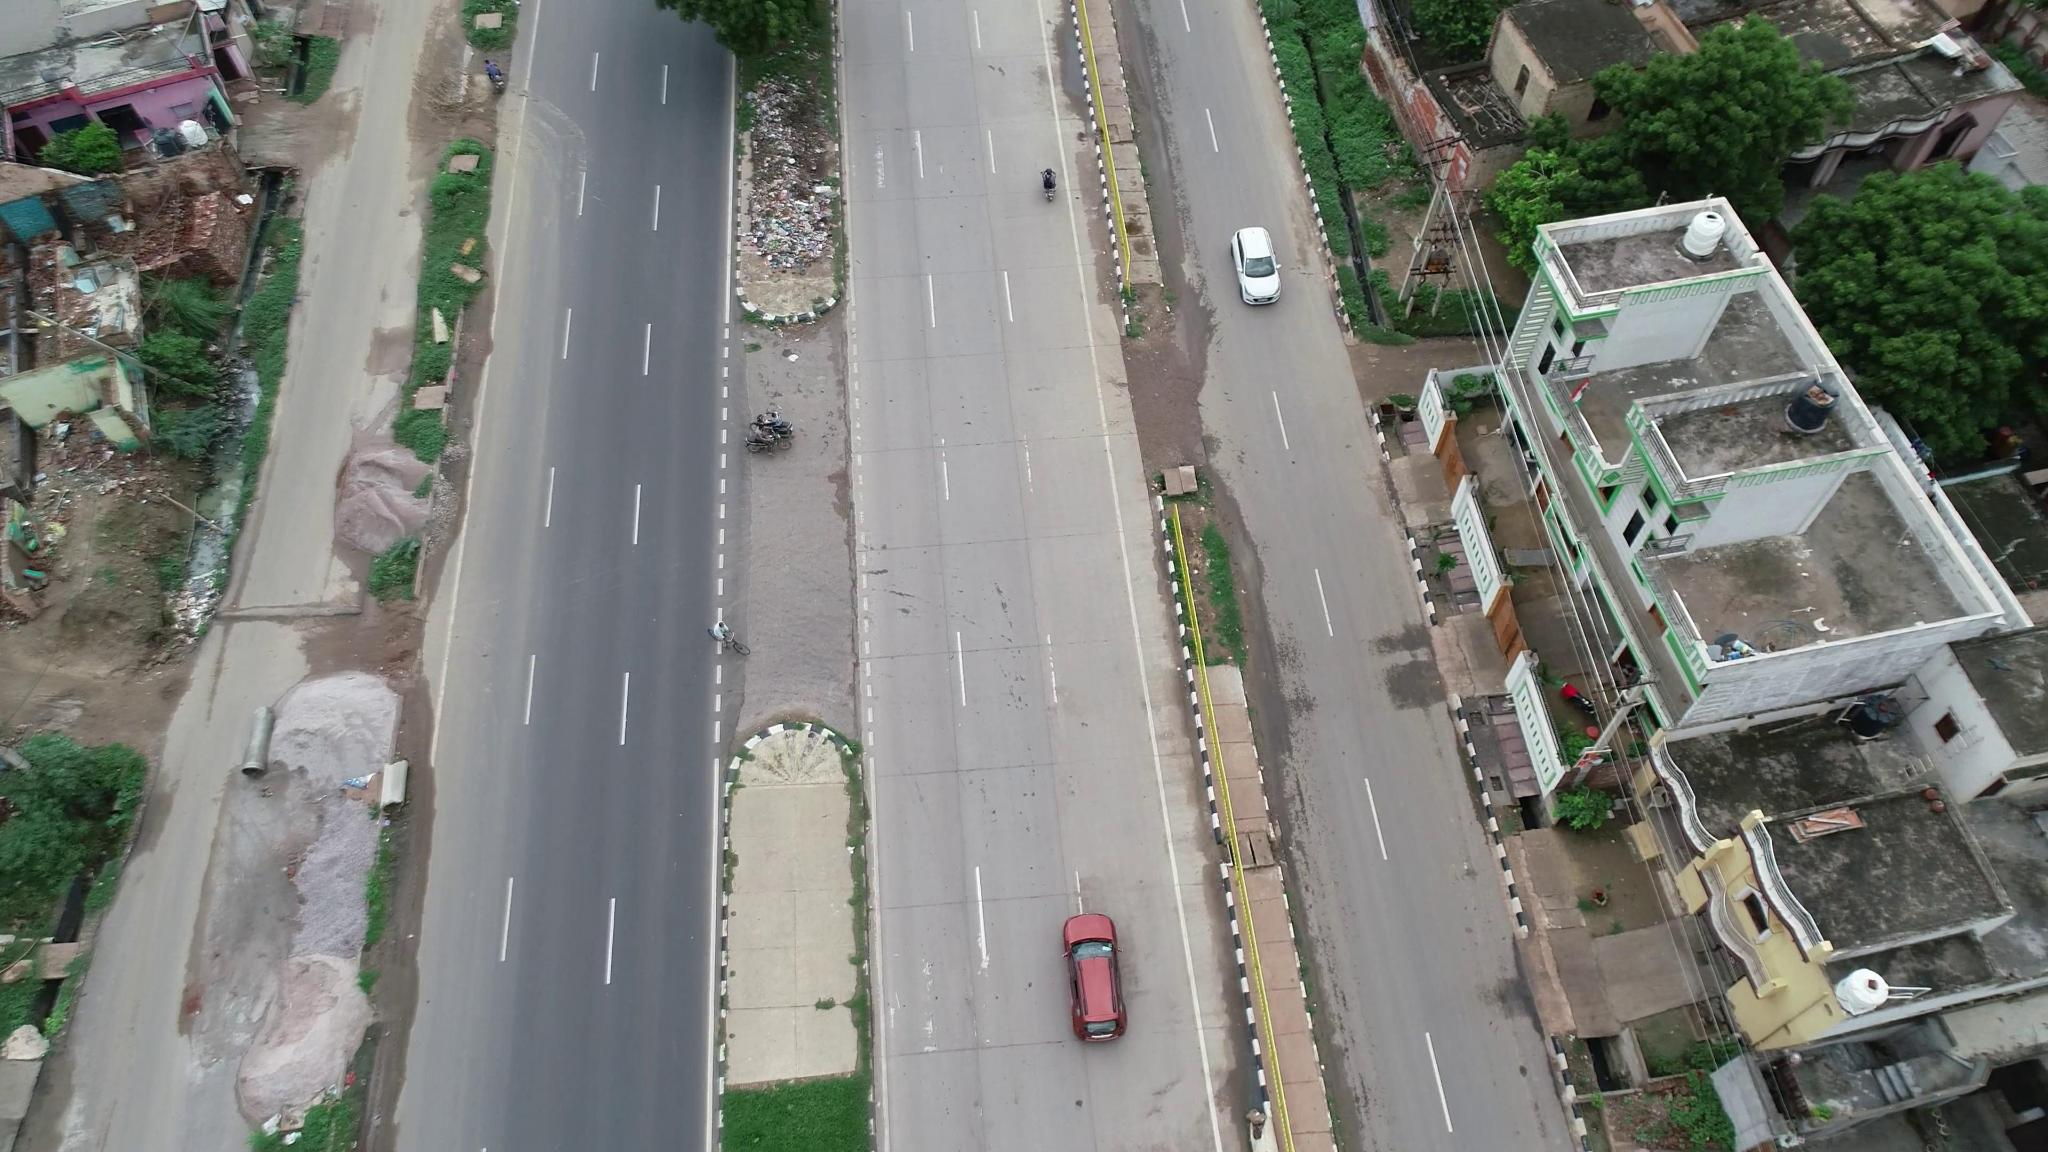Road_side_garbage: (745, 84, 845, 277)
